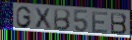5: (73, 9, 89, 33)
B: (53, 8, 72, 32), (109, 12, 128, 35)
E: (91, 11, 109, 34)
G: (15, 5, 33, 29)
X: (33, 7, 53, 30)
